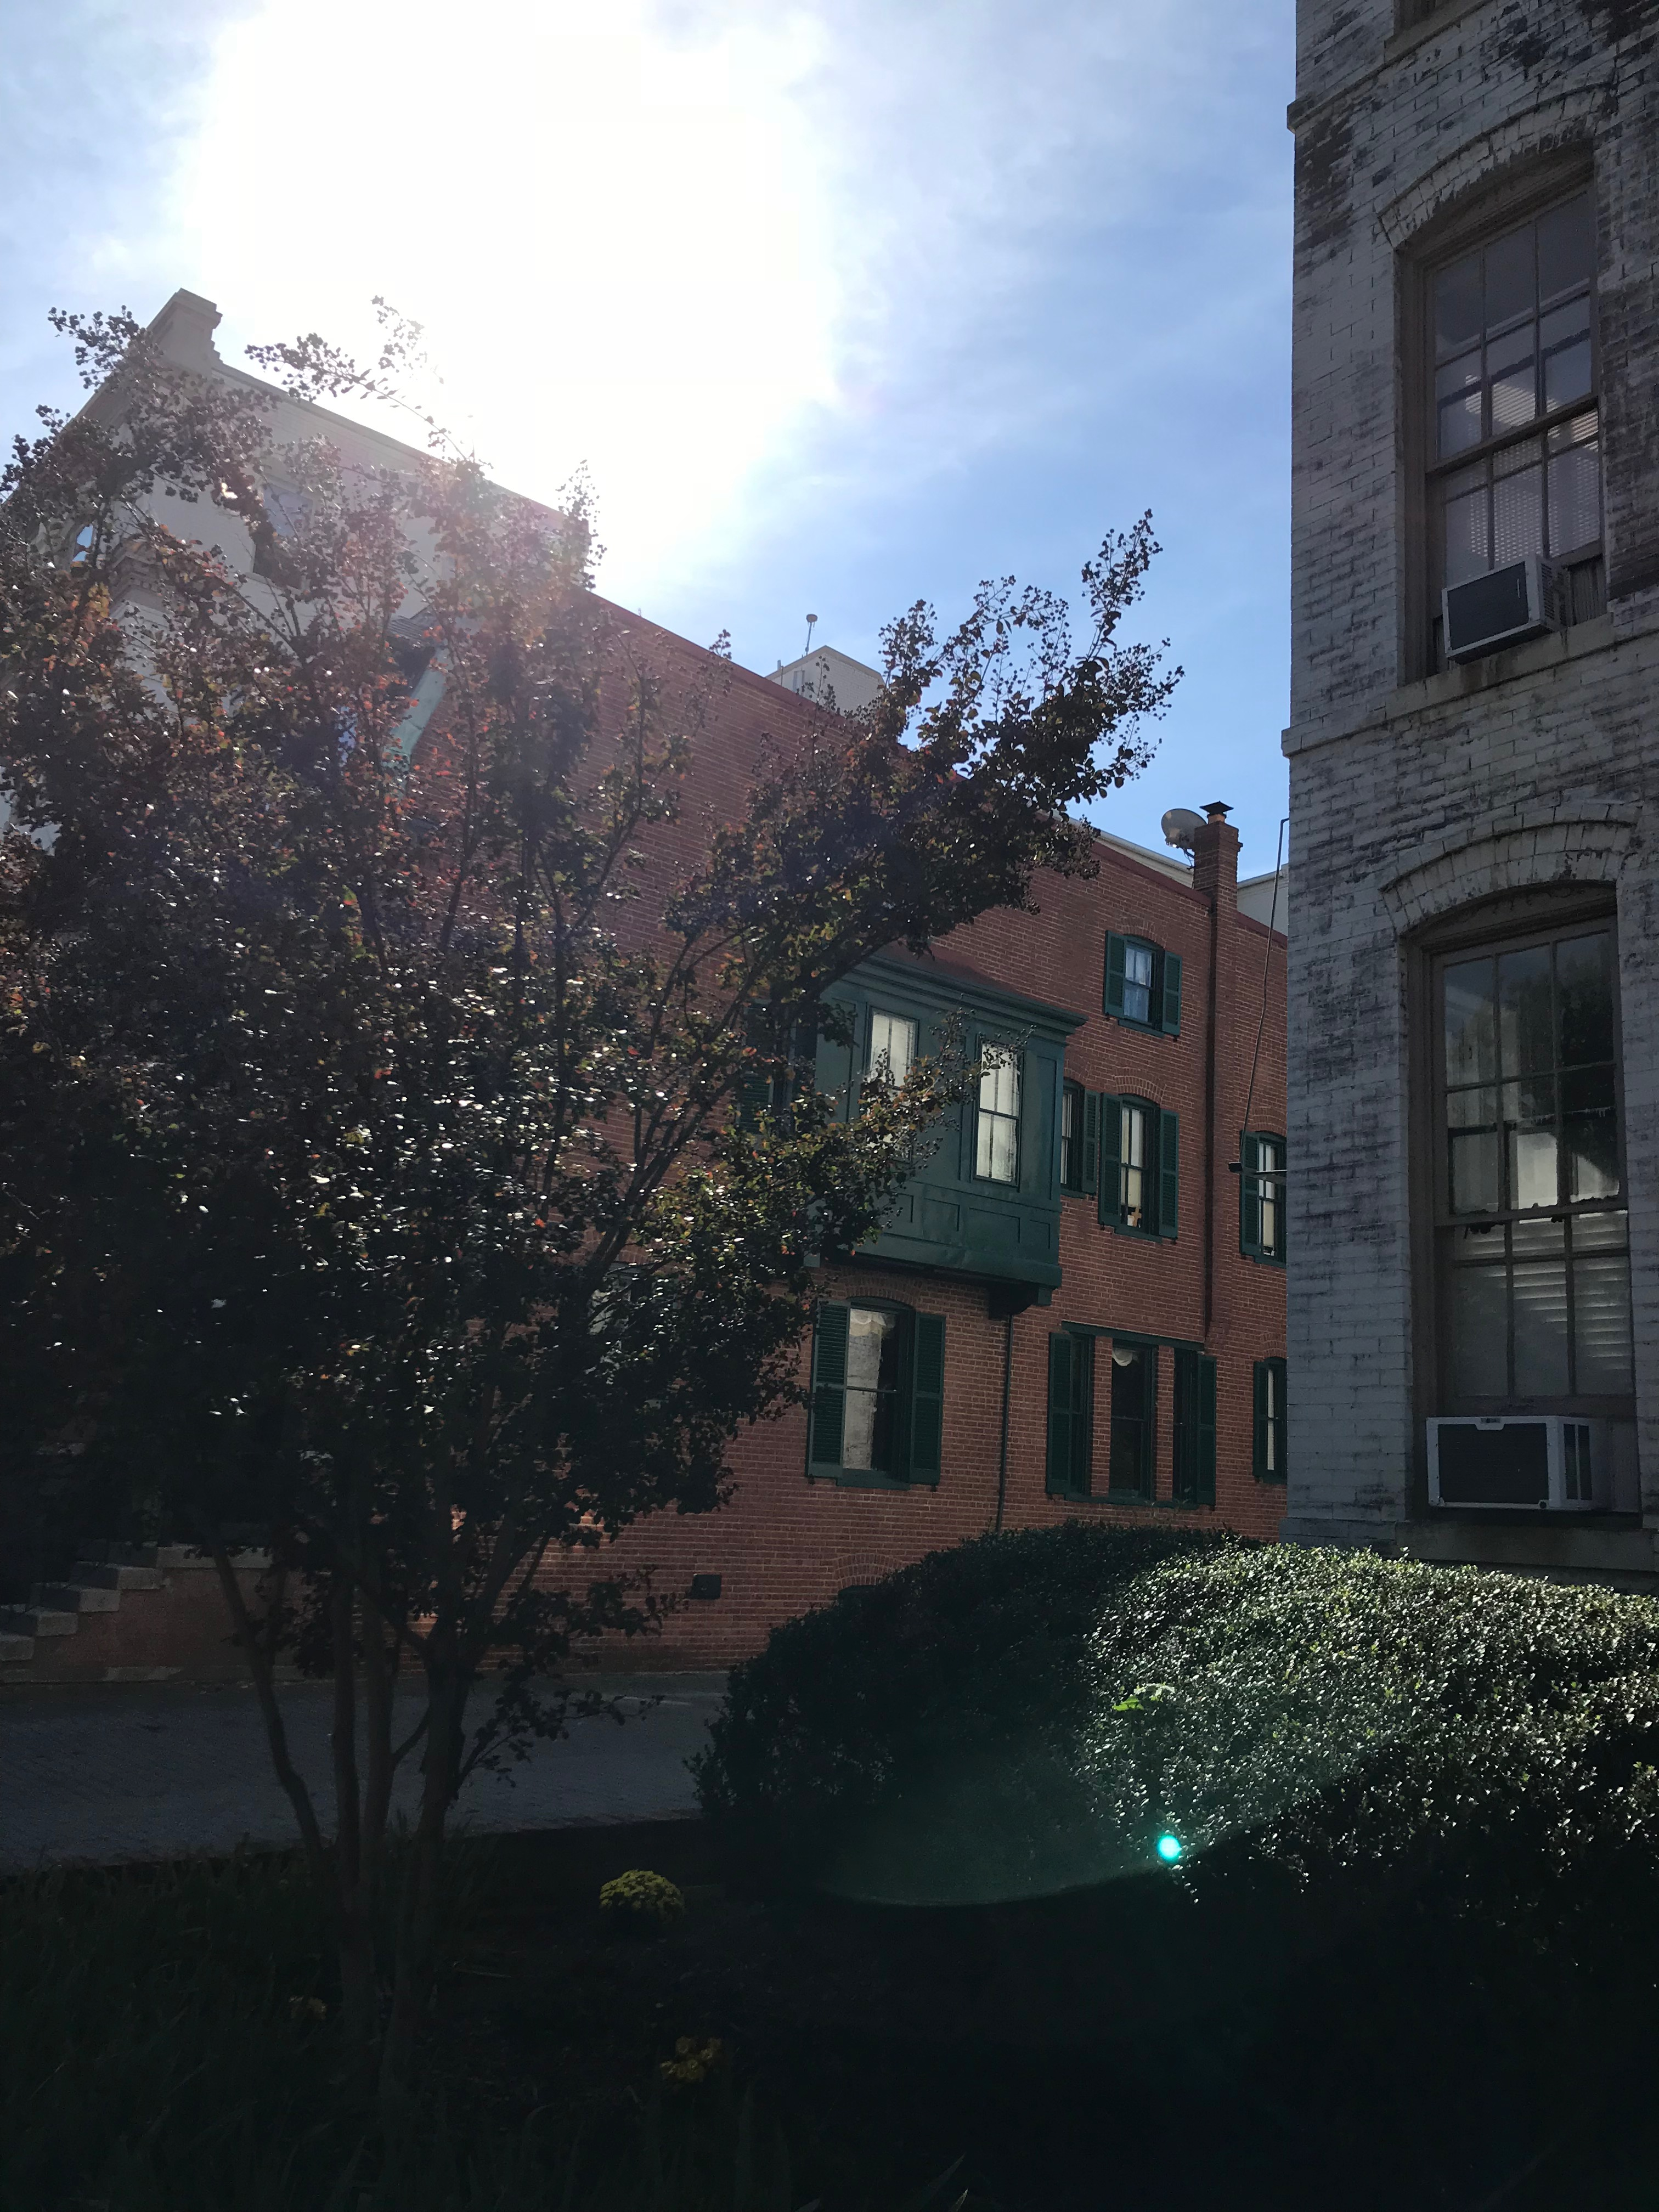flare: (1155, 1832, 1183, 1864)
